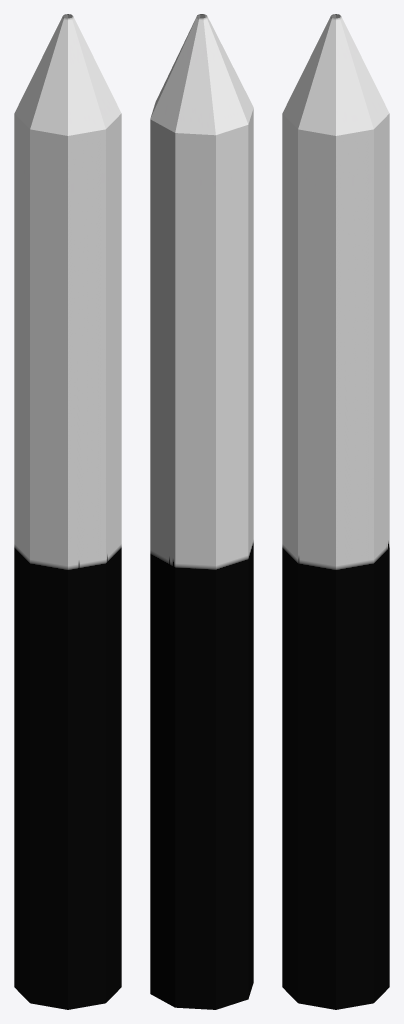
Rendered from bullet.obj.
3 views of the same model, side by side, from view 1: azimuth 90°, elevation 25°; view 2: azimuth 150°, elevation 25°; view 3: azimuth 270°, elevation 25° (orthographic).
Visible parts, largest first — view 1: Cylinder; view 2: Cylinder; view 3: Cylinder.
Part boxes in pixels (x1,y1,x2,y2): Cylinder: (14, 14, 121, 1009); Cylinder: (150, 14, 253, 1009); Cylinder: (282, 14, 389, 1009).
Size of the model in its own units: 0.2 by 2 by 0.2.
